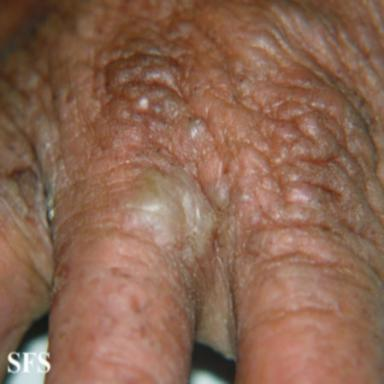Darier_s-Disease: (123, 169, 215, 257)
